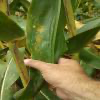Corn rust leaf: (26, 0, 77, 59)
